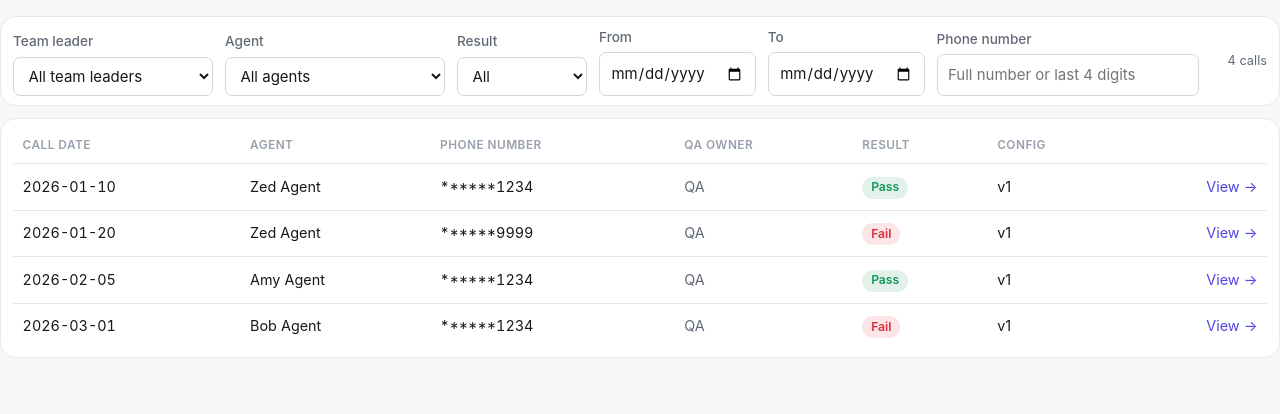
Scenario: EvaluationsList filters › filters by From/To (inclusive), keeps them in the URL, and warns on a reversed range
In the date field named "filter-from": (677, 74) [599,52,756,96], type "2026-01-20"
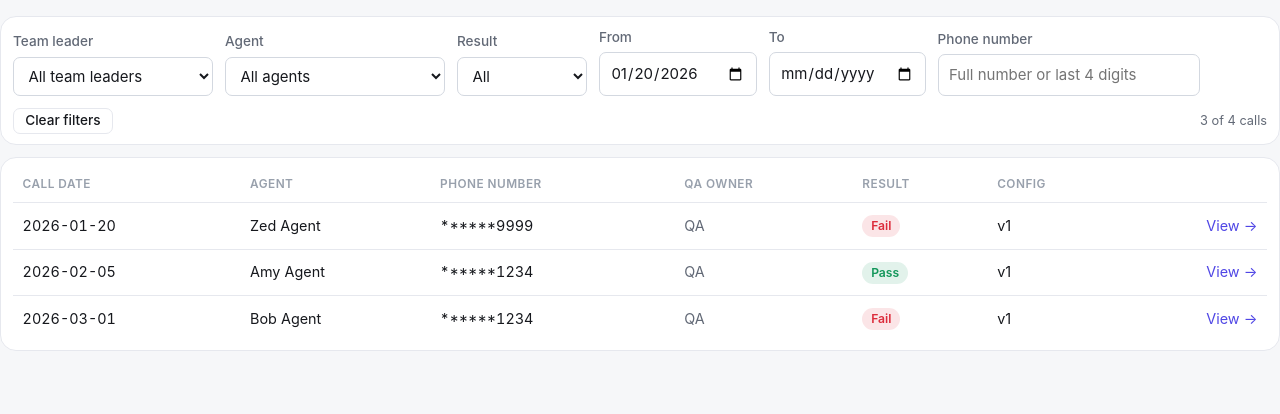
In the date field named "filter-to": (847, 74) [769,52,926,96], type "2026-02-05"
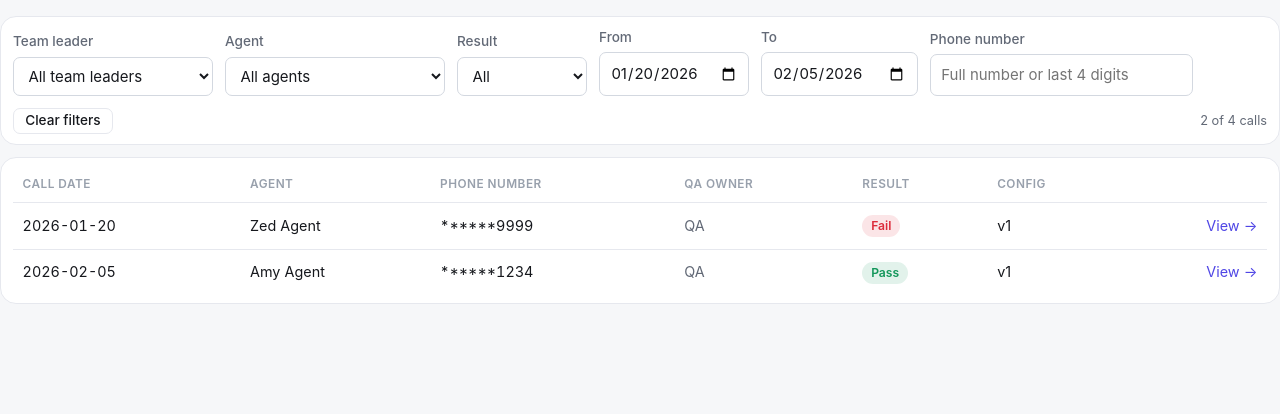
In the date field named "filter-from": (674, 74) [599,52,749,96], type "2026-03-01"
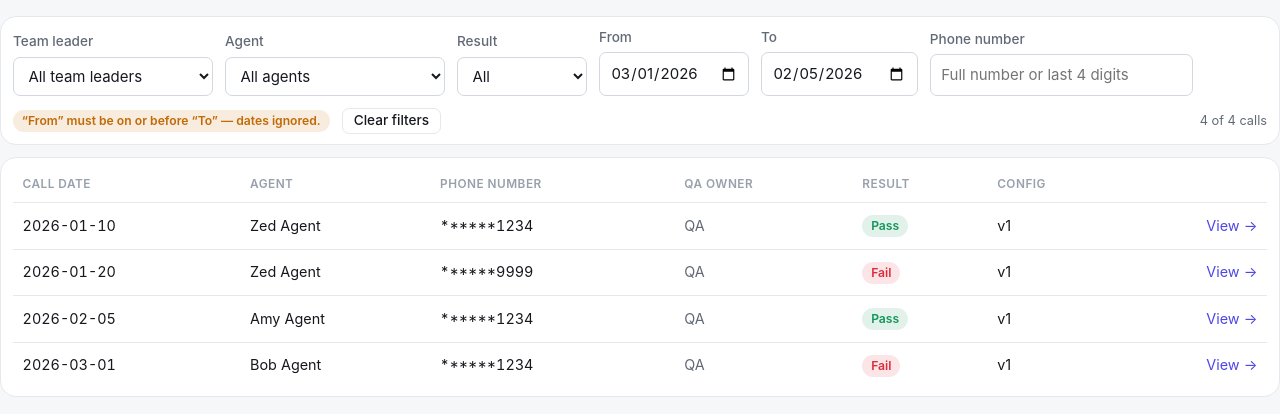
Result: the message shows "must be on or before" at [22,113,321,128]
